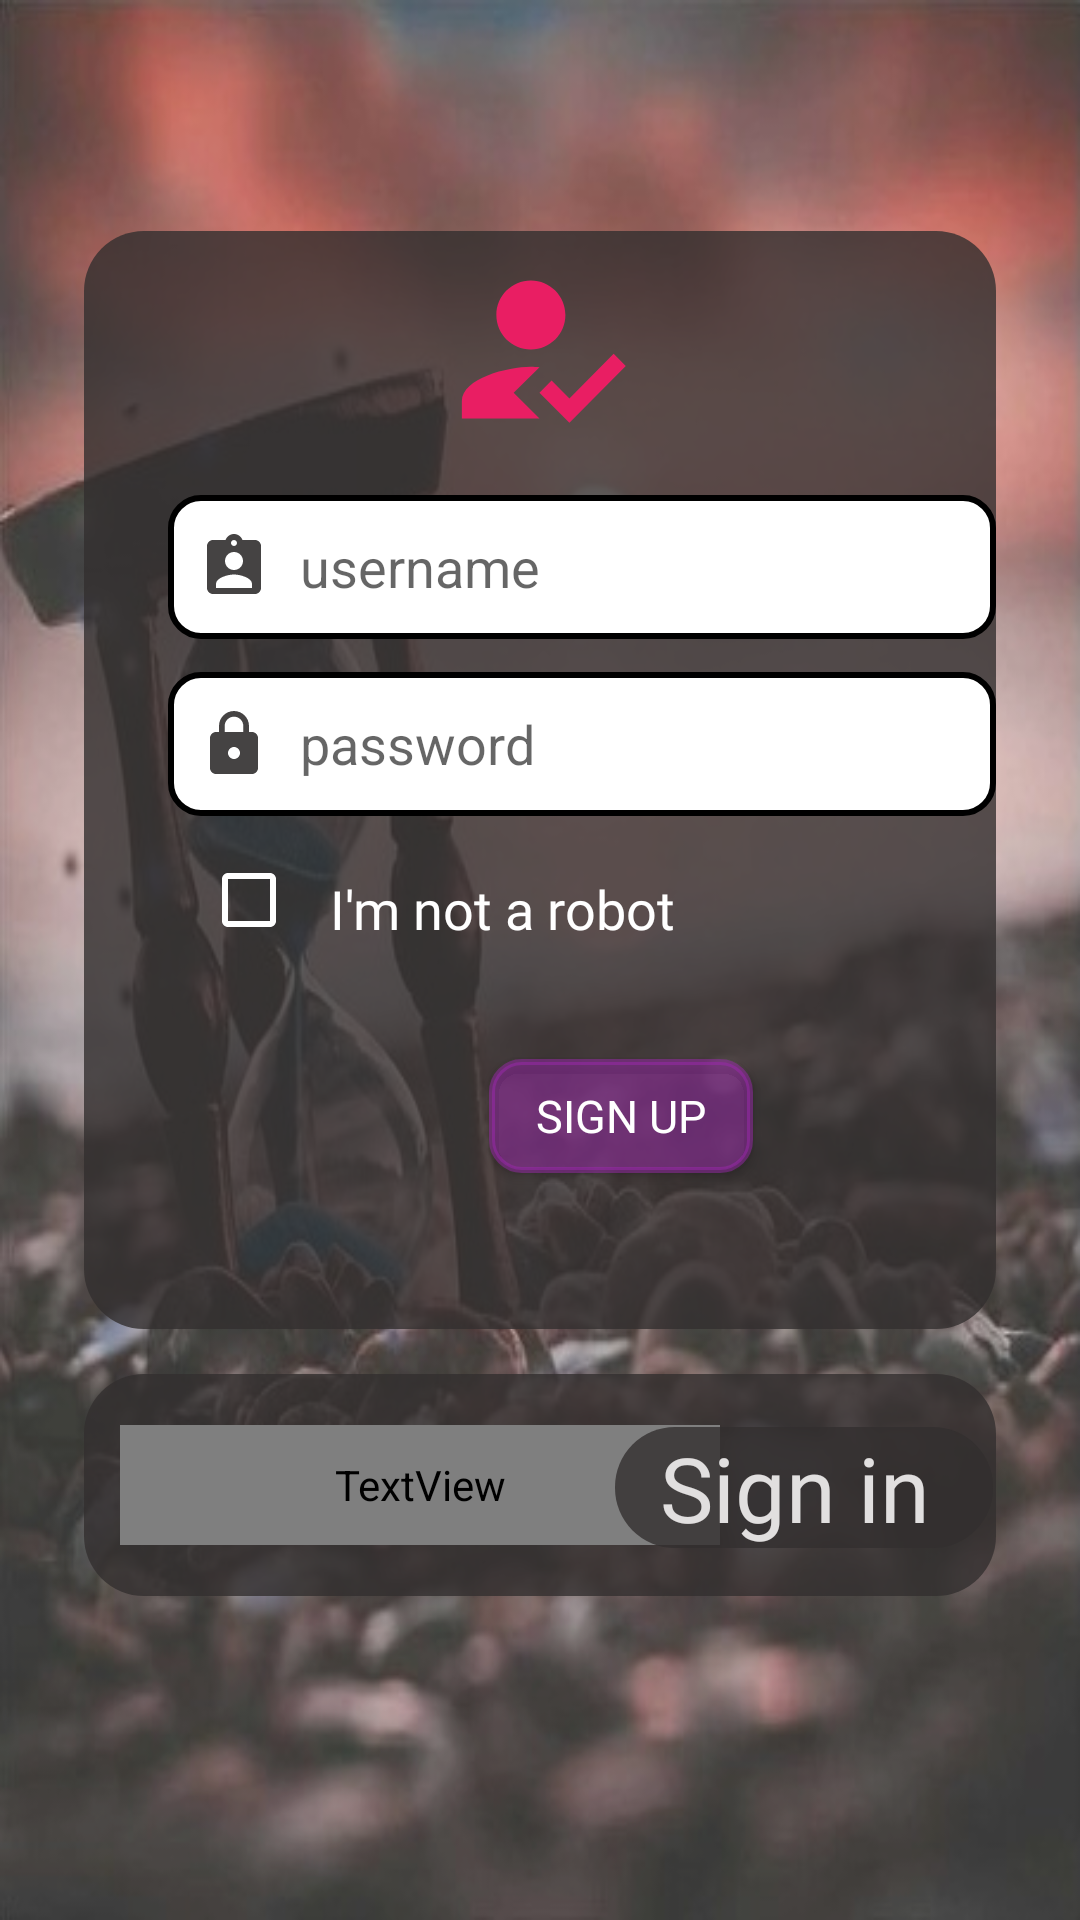

Icons on this 1080 x 1920 Android screen, each with its box as (x1, y1, x2, y2):
how to reg: (462, 280, 626, 423)
